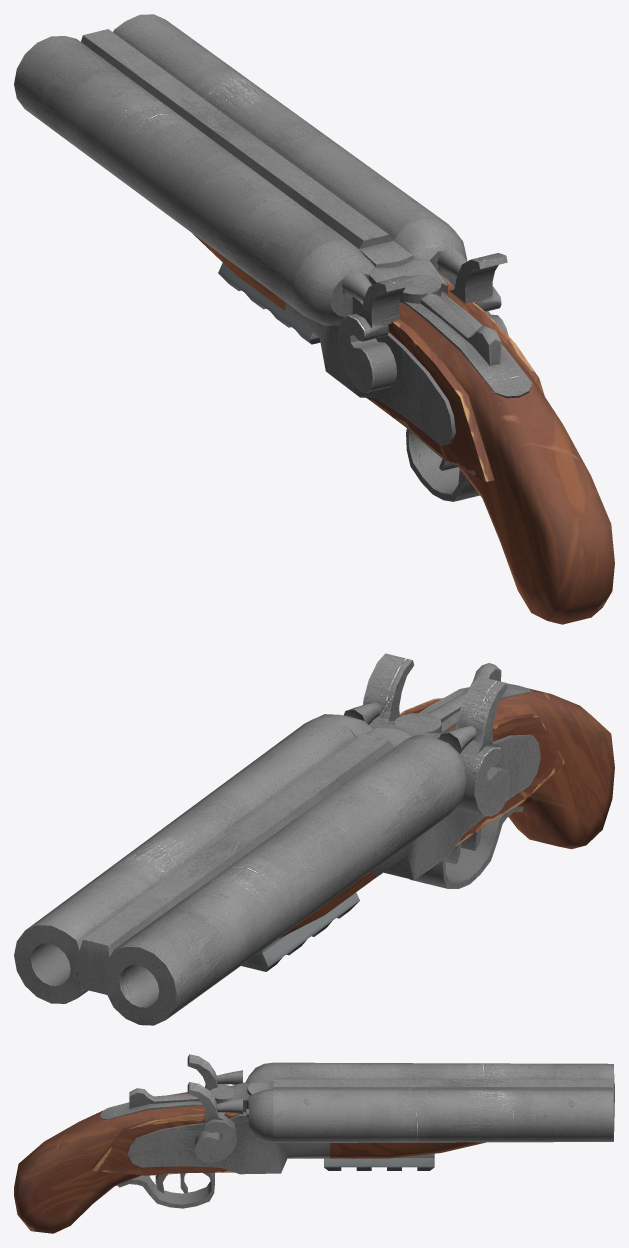
Rendered from IG_Gun_Hand.fbx.
The picture shows the model from 3 angles, top to bottom: view 1: azimuth 30°, elevation 25°; view 2: azimuth 150°, elevation 25°; view 3: azimuth 270°, elevation 25°; orthographic projection. The views are drawn at different scales.
Visible parts, largest first — view 1: Pfb_WPN_TOZ66_S_1, ShowIf_Grip; view 2: Pfb_WPN_TOZ66_S_1, ShowIf_Grip; view 3: Pfb_WPN_TOZ66_S_1, ShowIf_Grip.
Part boxes in pixels (bbox=[...]): Pfb_WPN_TOZ66_S_1: bbox=[14, 14, 614, 624]; ShowIf_Grip: bbox=[218, 263, 320, 344]; Pfb_WPN_TOZ66_S_1: bbox=[14, 653, 614, 1025]; ShowIf_Grip: bbox=[241, 892, 359, 971]; Pfb_WPN_TOZ66_S_1: bbox=[14, 1054, 614, 1233]; ShowIf_Grip: bbox=[324, 1153, 434, 1170].
Bounding box in the file's own units: 0.1754 × 0.2612 × 0.9067.
